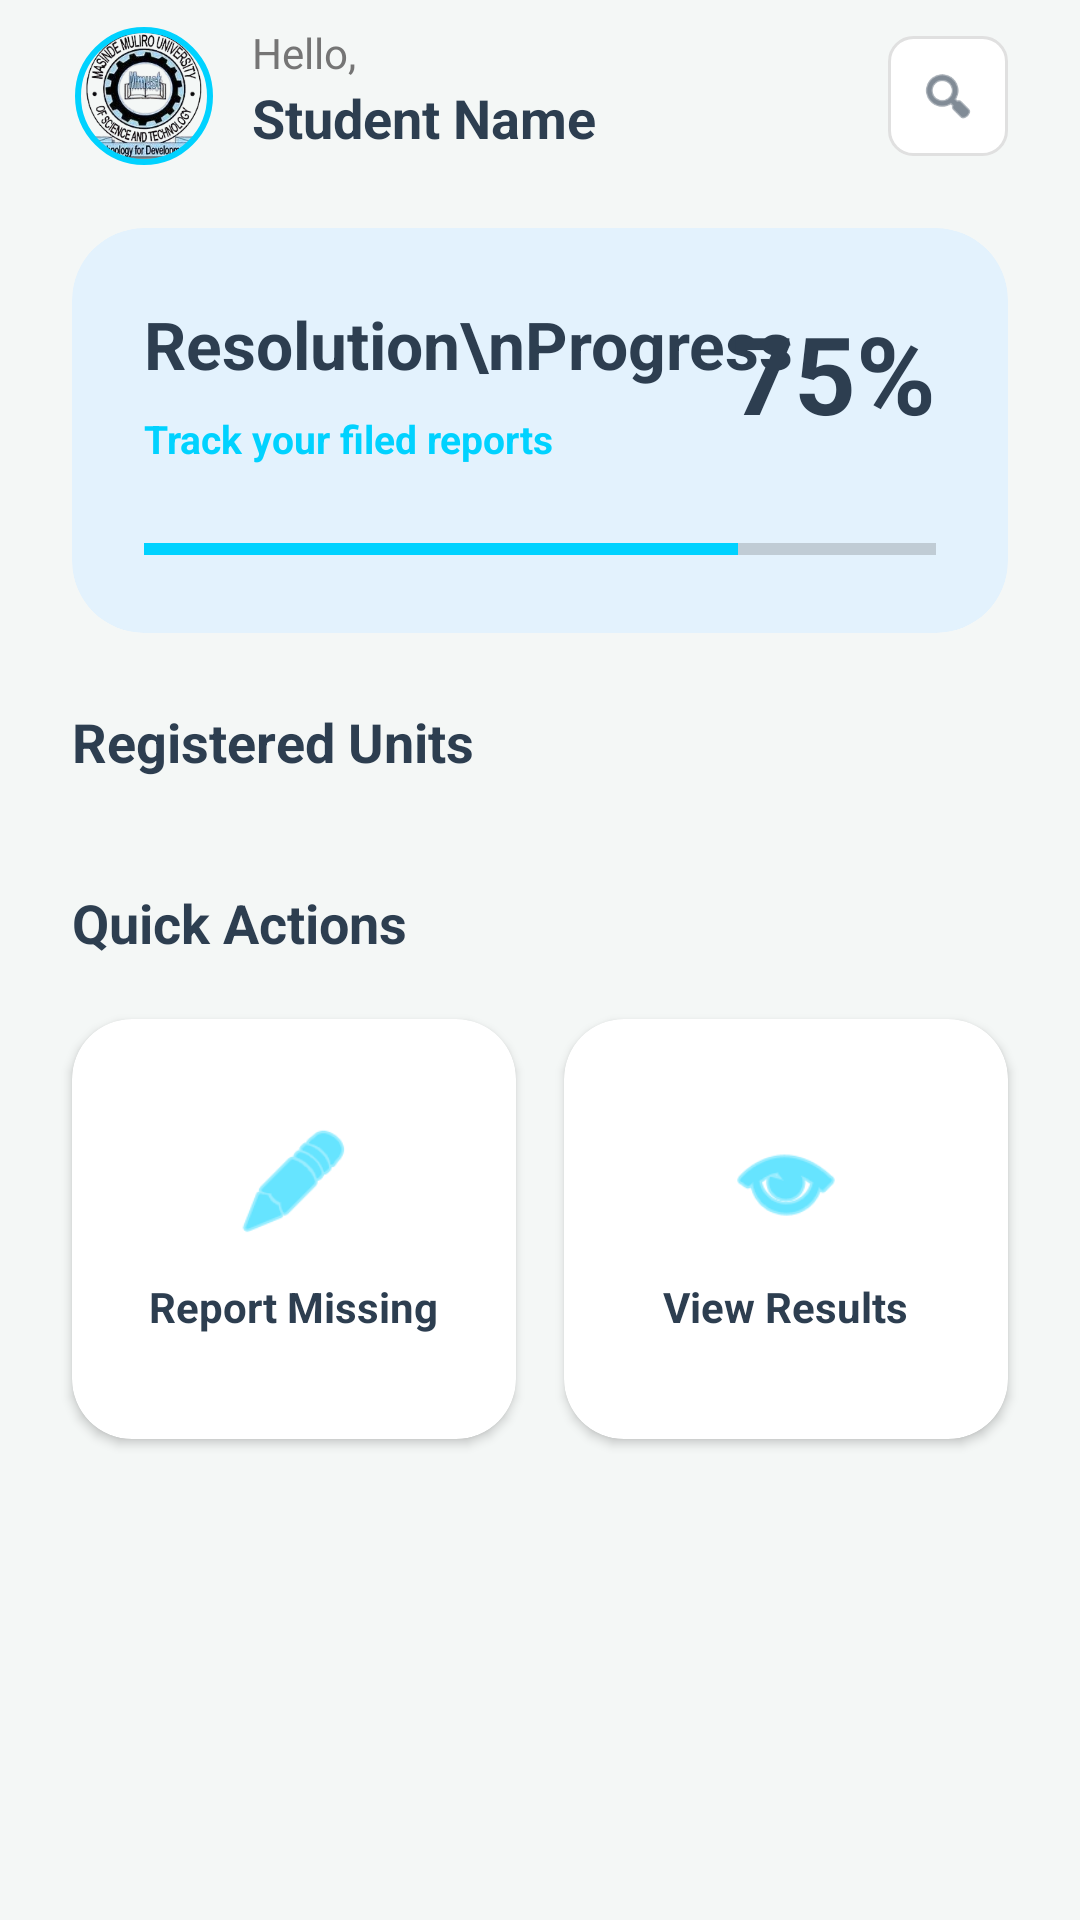

Point at icon controls on the screen. Image size 1080x1920, points as (x,y).
edit: (293,1181)
search: (948,96)
